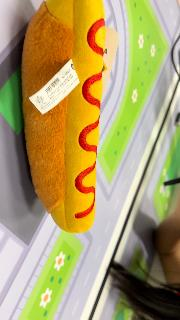hotdog: (20, 2, 105, 235)
